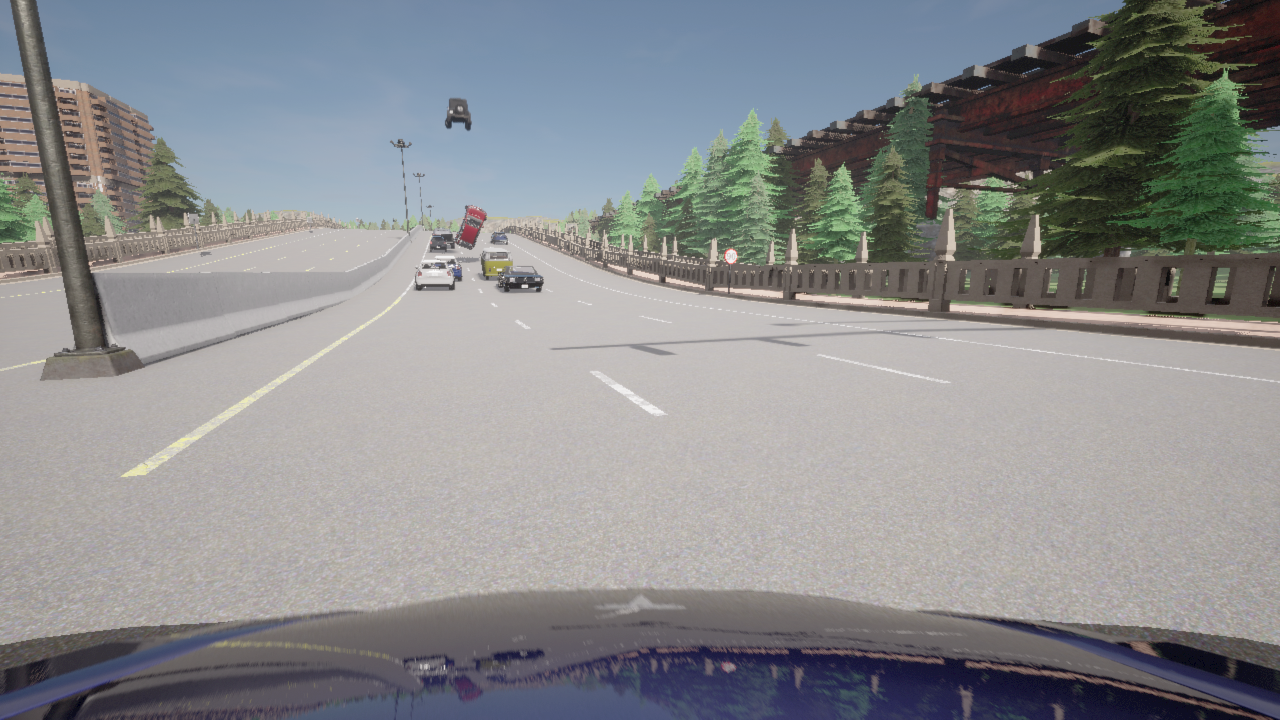cyclist: (0, 588, 1279, 719), (455, 205, 486, 249), (497, 265, 543, 291), (415, 260, 454, 290), (480, 247, 512, 279), (445, 97, 470, 130), (435, 256, 461, 280), (432, 228, 454, 248), (428, 236, 446, 251), (491, 231, 507, 244)
